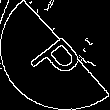P_NE: (22, 25, 88, 85)
